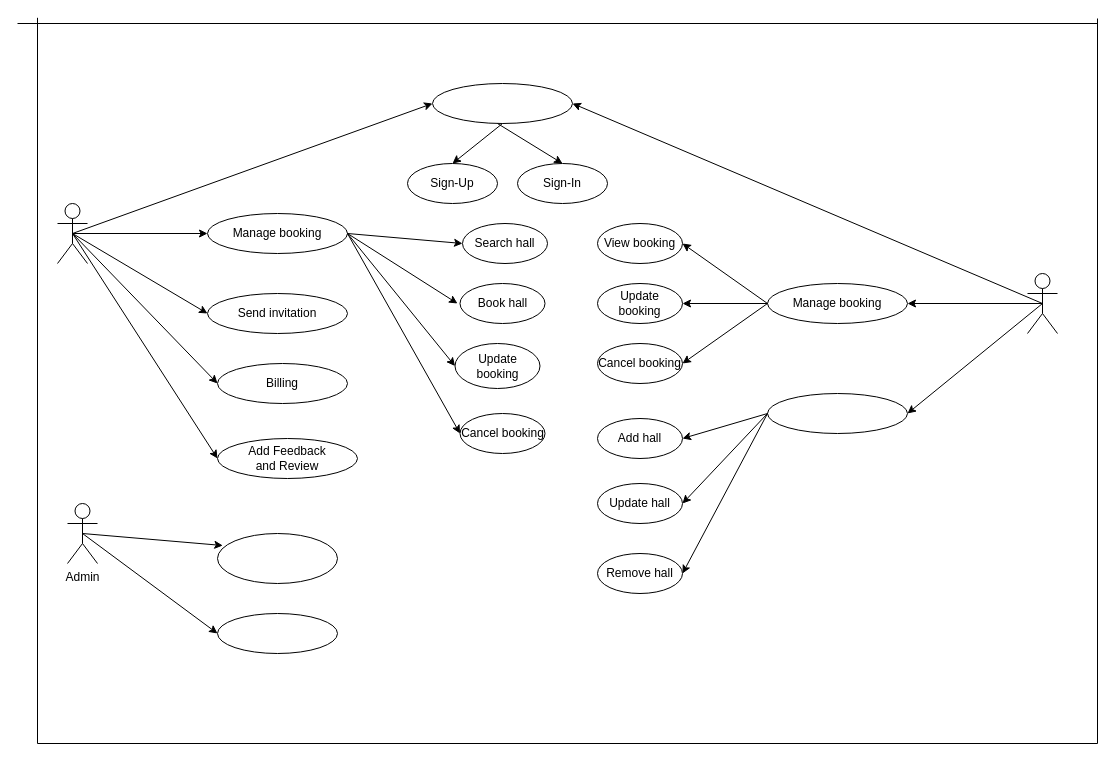
The diagram is 1116 pixels wide and 762 high, and some of its shapes have lost their labels. The shapes that lost their labels are listed below. From the top down, each one's centre as x and y in pixels, then its label:
At [502,103]: "Authentication".
At [72,233]: "User".
At [1042,303]: "Owner".
At [837,413]: "Manage services".
At [277,558]: "View Review and Report".
At [277,633]: "Manage user and vendor".
